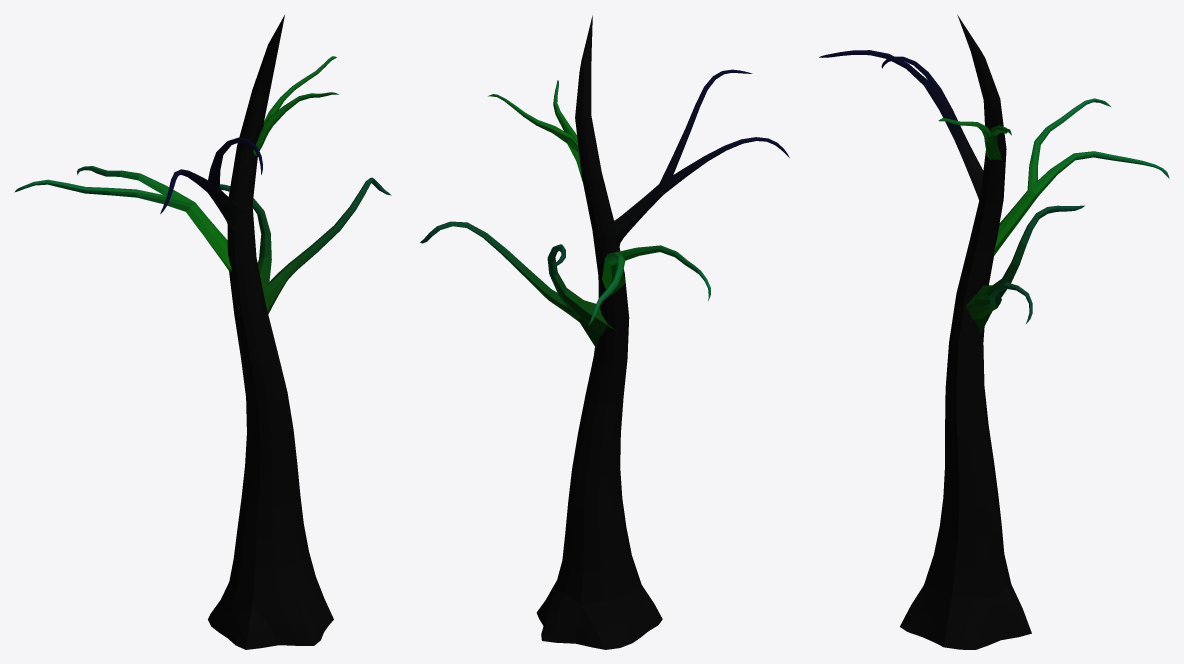
The model's file is SM_Tree2.fbx.
The picture shows the model from 3 angles, left to right: view 1: azimuth 30°, elevation 25°; view 2: azimuth 150°, elevation 25°; view 3: azimuth 270°, elevation 25°; orthographic projection.
Parts seen in each view (by area): view 1: Tree2; view 2: Tree2; view 3: Tree2.
Boxes of the visible parts, box(x1,y1,x2,y2) form: Tree2: box(14, 15, 391, 649); Tree2: box(420, 15, 789, 649); Tree2: box(819, 14, 1169, 649).
Bounding box in the file's own units: 137 × 239 × 124.
